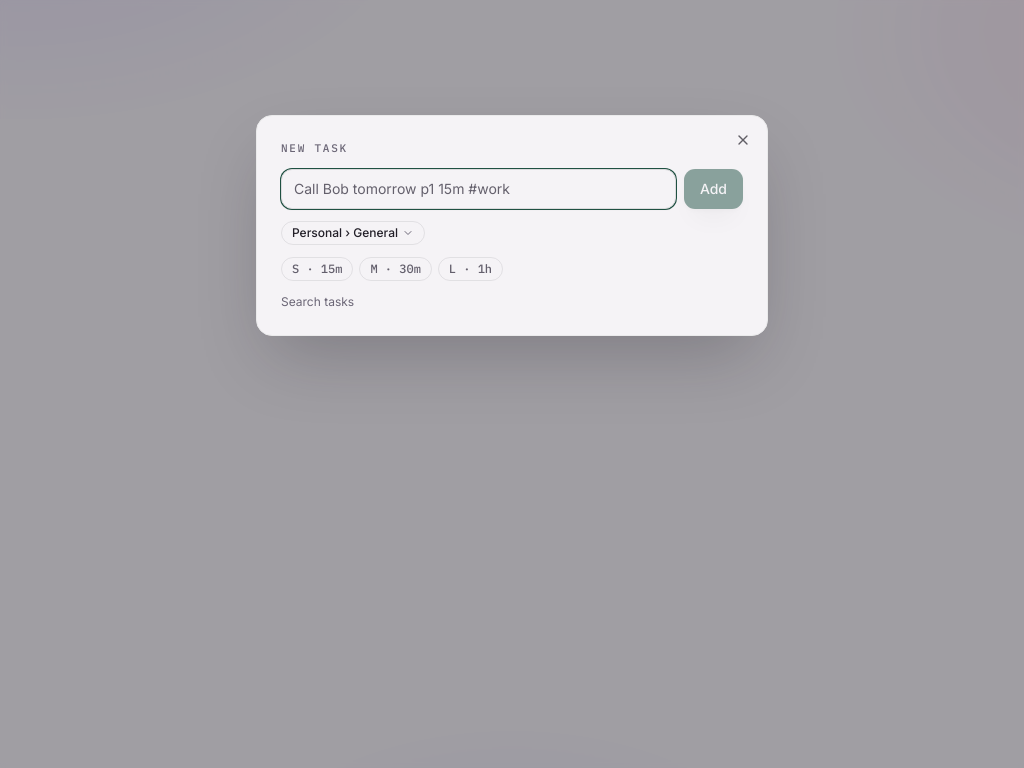
Test: QuickCapture (chunk 73) › (4) the remembered destination › is written after a successful create, to the list the task went into
The image size is (1024, 768).
Type "Term sheet #deals" into the field named "Task" at (478, 189), box [281,169,676,209]
Then press Enter
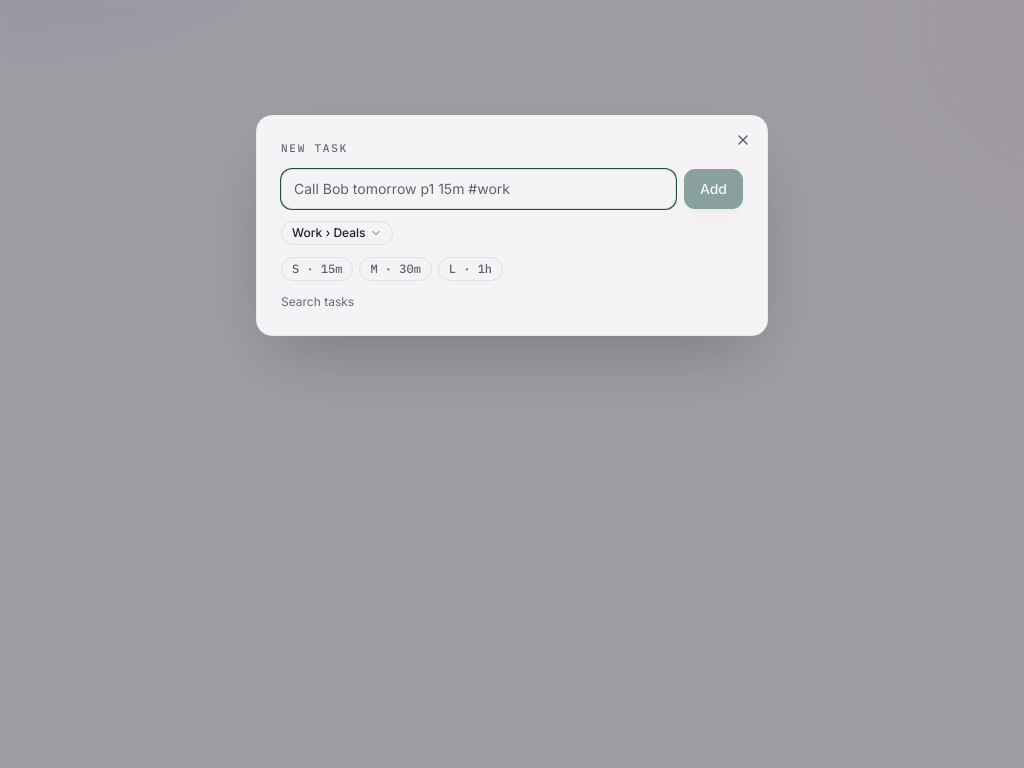
Check: the button "Work › Deals" is shown, box [281,221,392,245]
